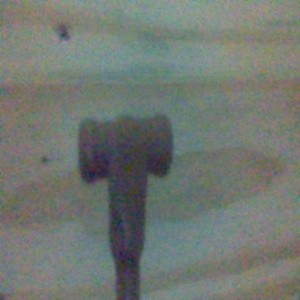palu: (76, 113, 174, 300)
